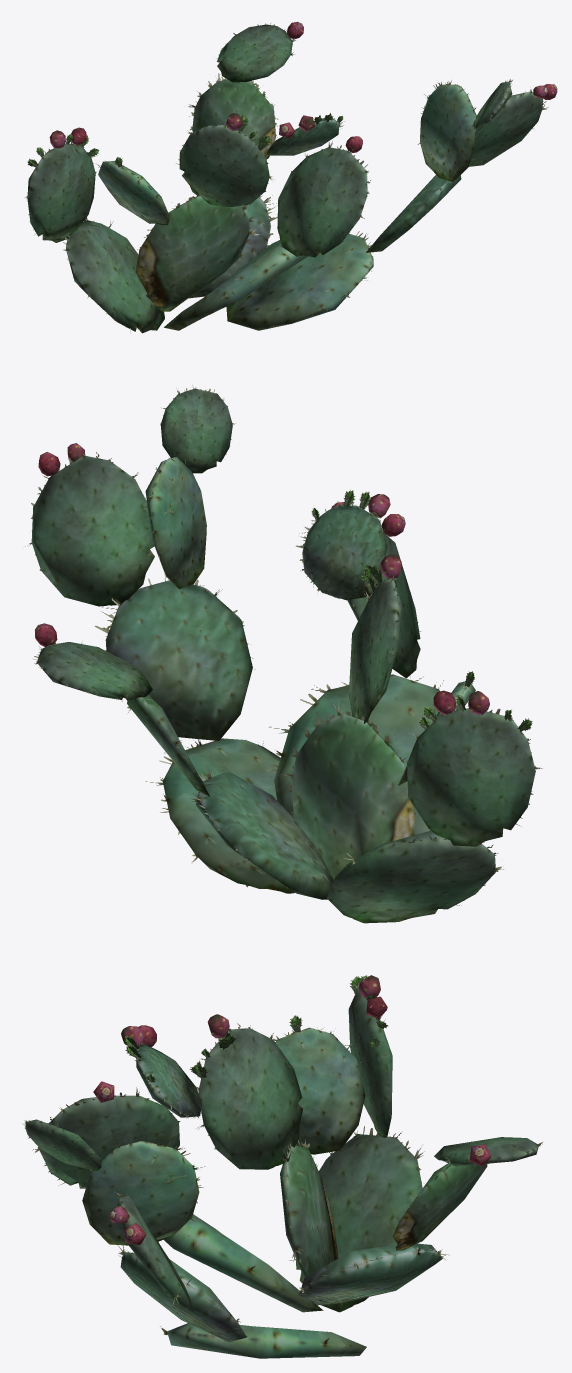
The model's file is DesertPlant02C.FBX.
3 views of the same model, one above another, from view 1: azimuth 30°, elevation 25°; view 2: azimuth 150°, elevation 25°; view 3: azimuth 270°, elevation 25° (orthographic). The views are drawn at different scales.
Visible parts, largest first — view 1: DesertPlant02C; view 2: DesertPlant02C; view 3: DesertPlant02C.
Part boxes in pixels (box(x1,y1,x2,y2)): DesertPlant02C: box(25, 21, 557, 333); DesertPlant02C: box(25, 385, 542, 923); DesertPlant02C: box(22, 975, 543, 1358).
Bounding box in the file's own units: 12.44 × 6.95 × 9.23.
